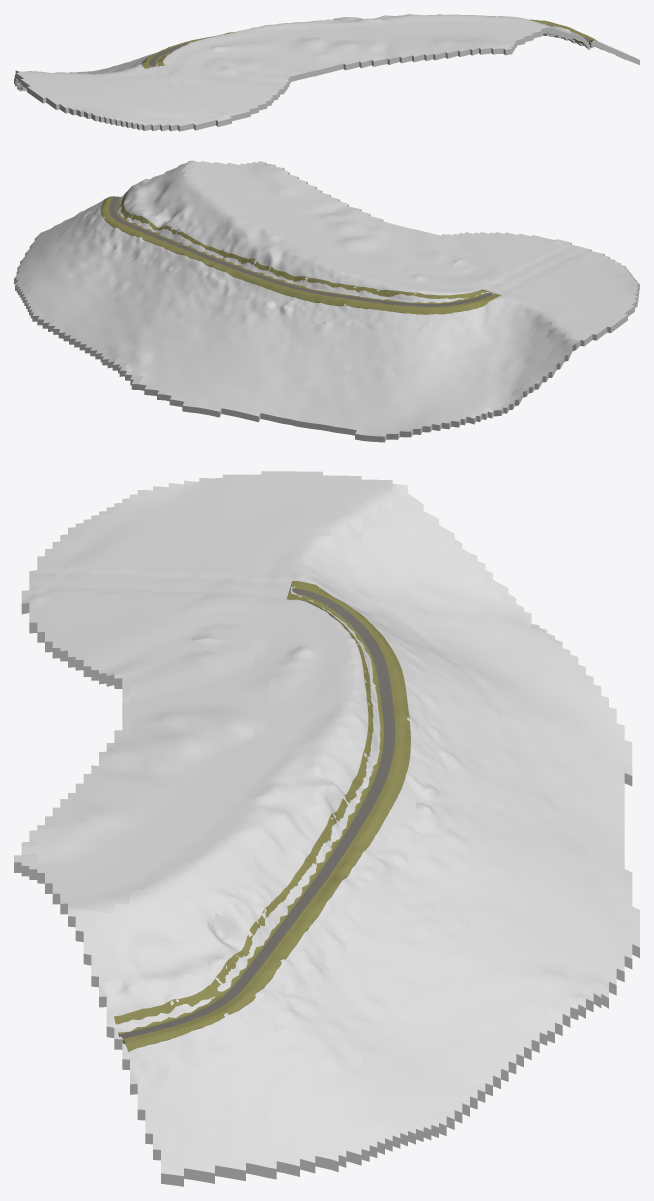
File: conz_106.glb
3 views of the same model, one above another, from view 1: azimuth 30°, elevation 25°; view 2: azimuth 150°, elevation 25°; view 3: azimuth 270°, elevation 25° (orthographic). The views are drawn at different scales.
Visible parts, largest first — view 1: terrain106, verge106L, road106; view 2: terrain106, verge106L, verge106R, road106; view 3: terrain106, verge106L, verge106R, road106.
Part boxes in pixels (bbox=[...]): terrain106: bbox=[14, 14, 639, 131]; verge106L: bbox=[141, 19, 596, 68]; road106: bbox=[149, 23, 591, 67]; terrain106: bbox=[14, 160, 639, 442]; verge106L: bbox=[100, 196, 500, 314]; verge106R: bbox=[115, 191, 488, 304]; road106: bbox=[109, 196, 493, 306]; terrain106: bbox=[14, 471, 639, 1186]; verge106L: bbox=[123, 581, 410, 1051]; verge106R: bbox=[114, 593, 383, 1036]; road106: bbox=[119, 588, 395, 1038].
Bounding box in the file's own units: 332 × 53.67 × 162.
